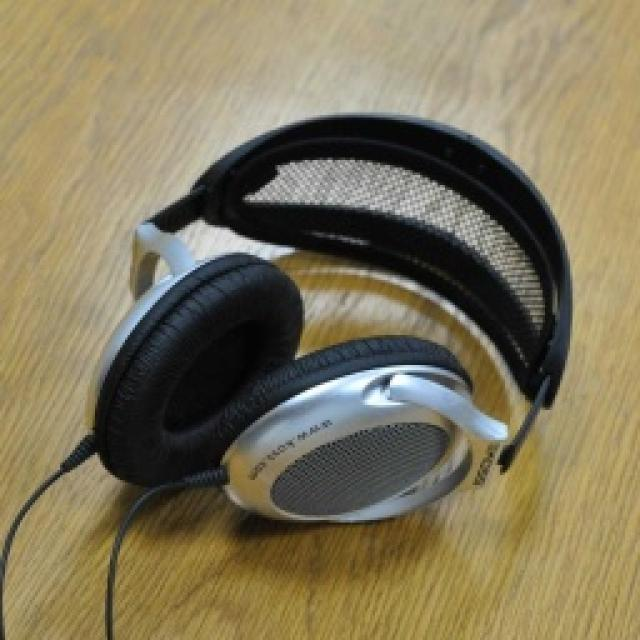headphones: (88, 107, 572, 525)
